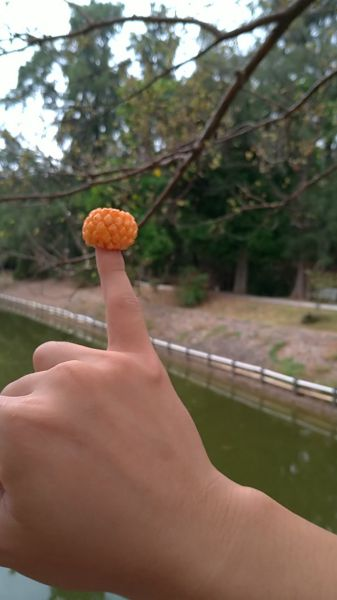eggs: (80, 206, 136, 251)
